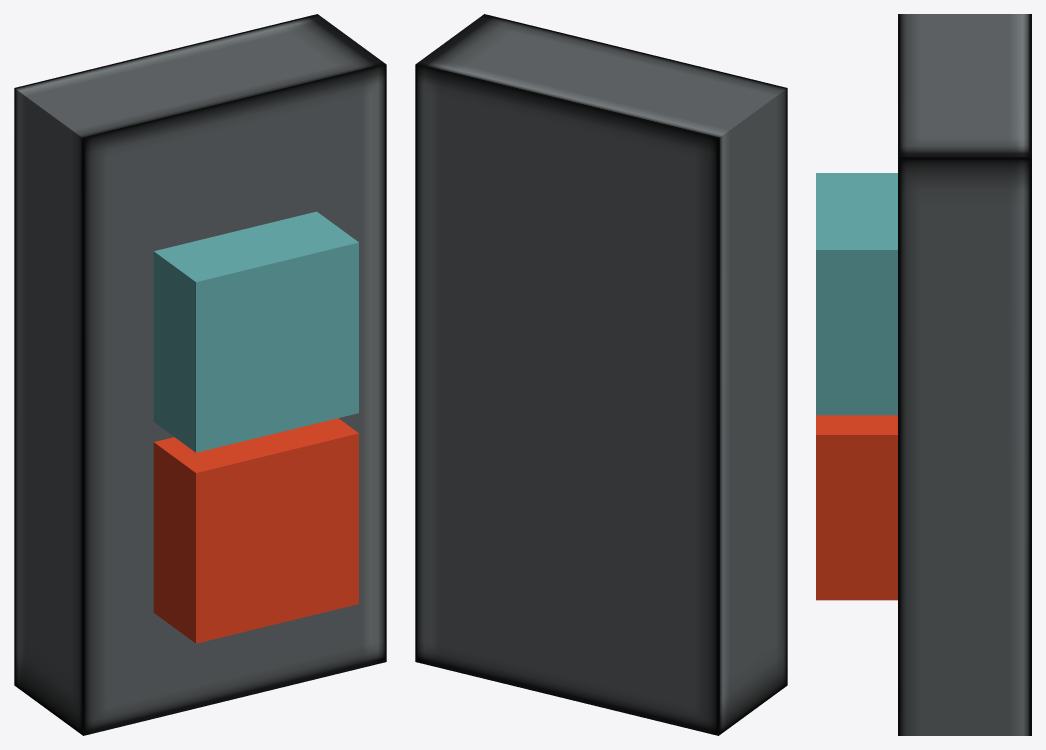
File: Door_Switch01.fbx
3 views of the same model, side by side, from view 1: azimuth 30°, elevation 25°; view 2: azimuth 150°, elevation 25°; view 3: azimuth 270°, elevation 25° (orthographic). The views are drawn at different scales.
Parts seen in each view (by area): view 1: polySurface377; view 2: polySurface377; view 3: polySurface377.
Boxes of the visible parts, left/top/right/bottom form: polySurface377: left=14, top=14, right=386, bottom=735; polySurface377: left=415, top=14, right=787, bottom=735; polySurface377: left=816, top=14, right=1031, bottom=735.
Bounding box in the file's own units: 0.0557 × 0.1048 × 0.0354.
1 material, 1 textured.
